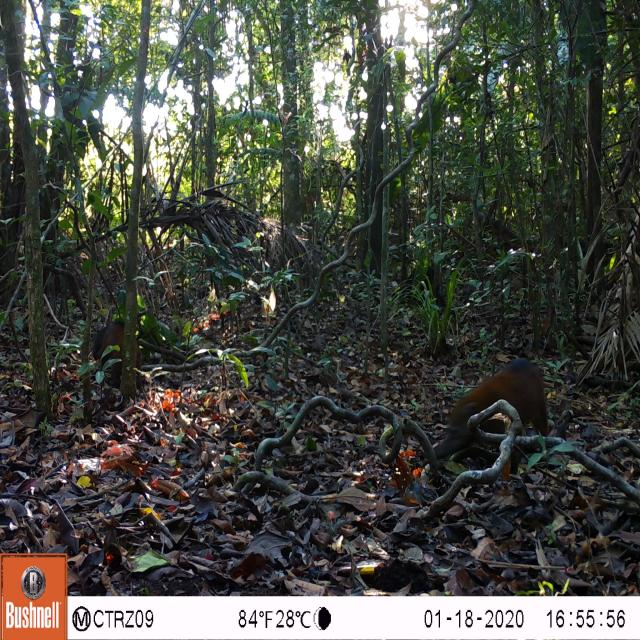South American Coati: (424, 350, 554, 462), (73, 284, 165, 402)
